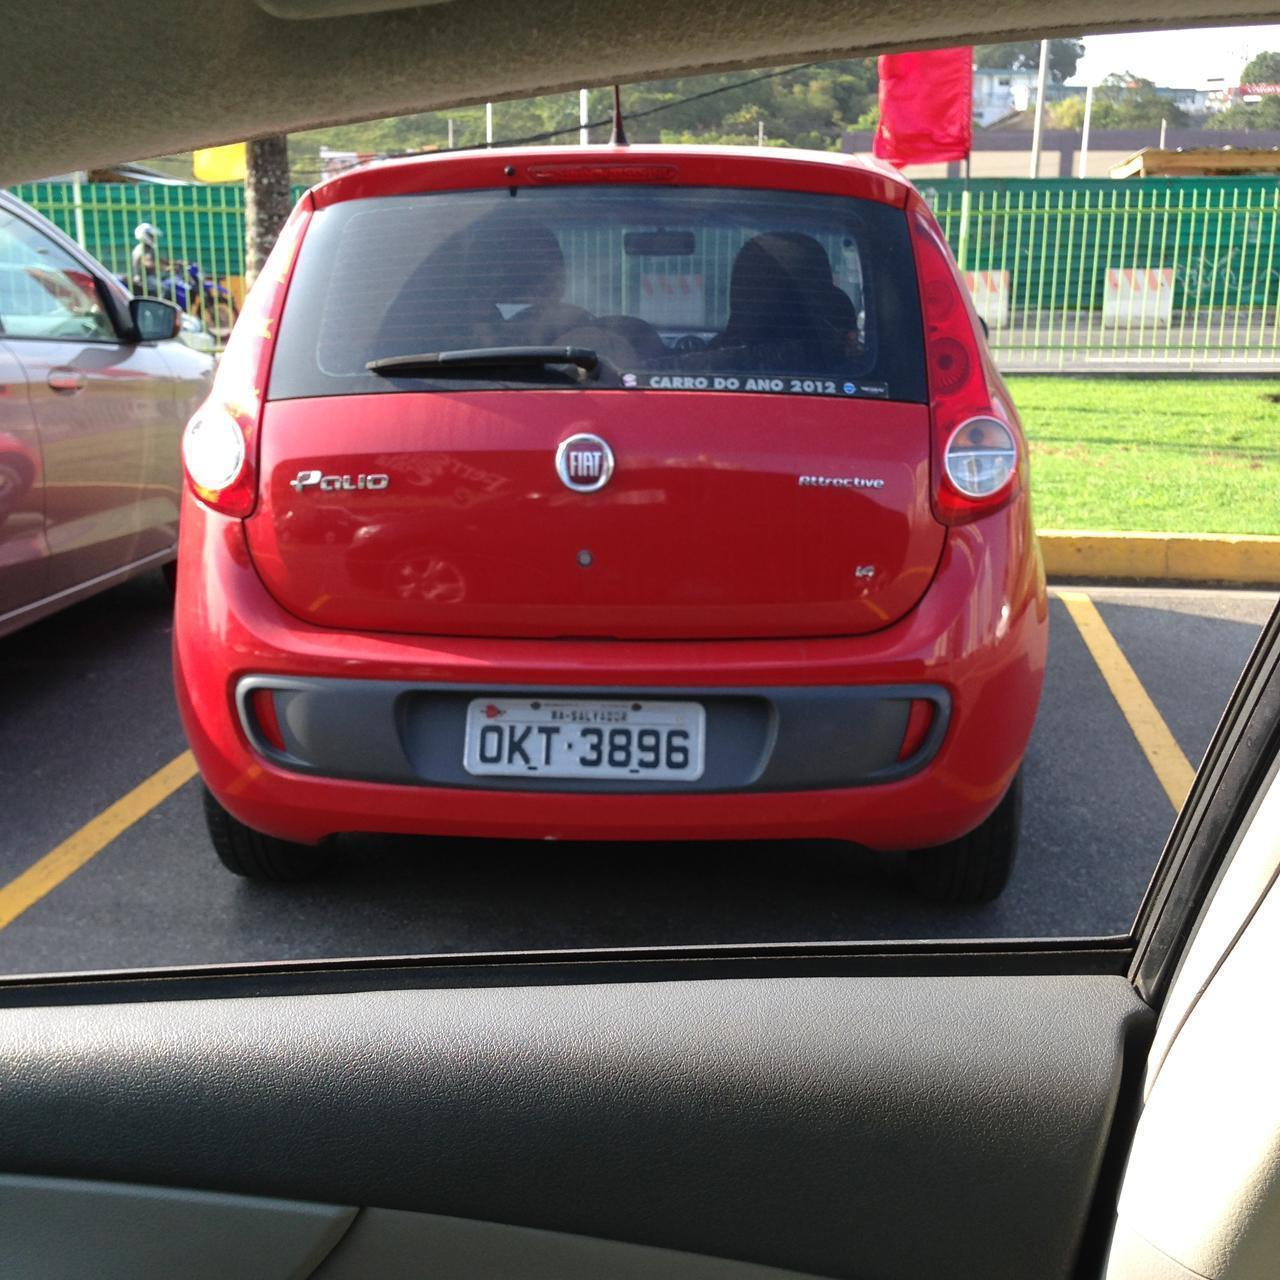placa de veiculo: (426, 678, 744, 815)
